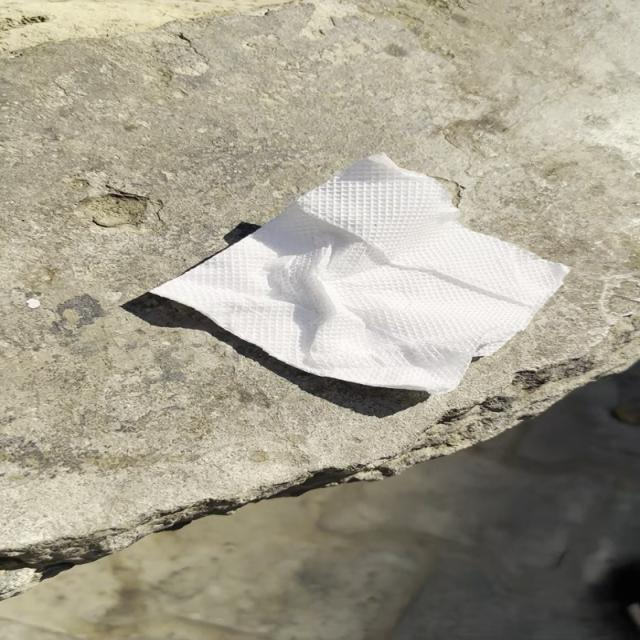tissue: (141, 145, 573, 404)
